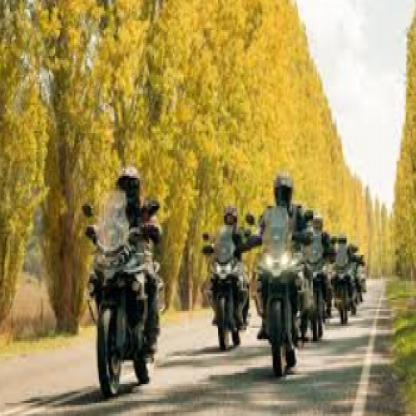helmet: (118, 166, 141, 205), (273, 174, 294, 212), (223, 207, 239, 233)
